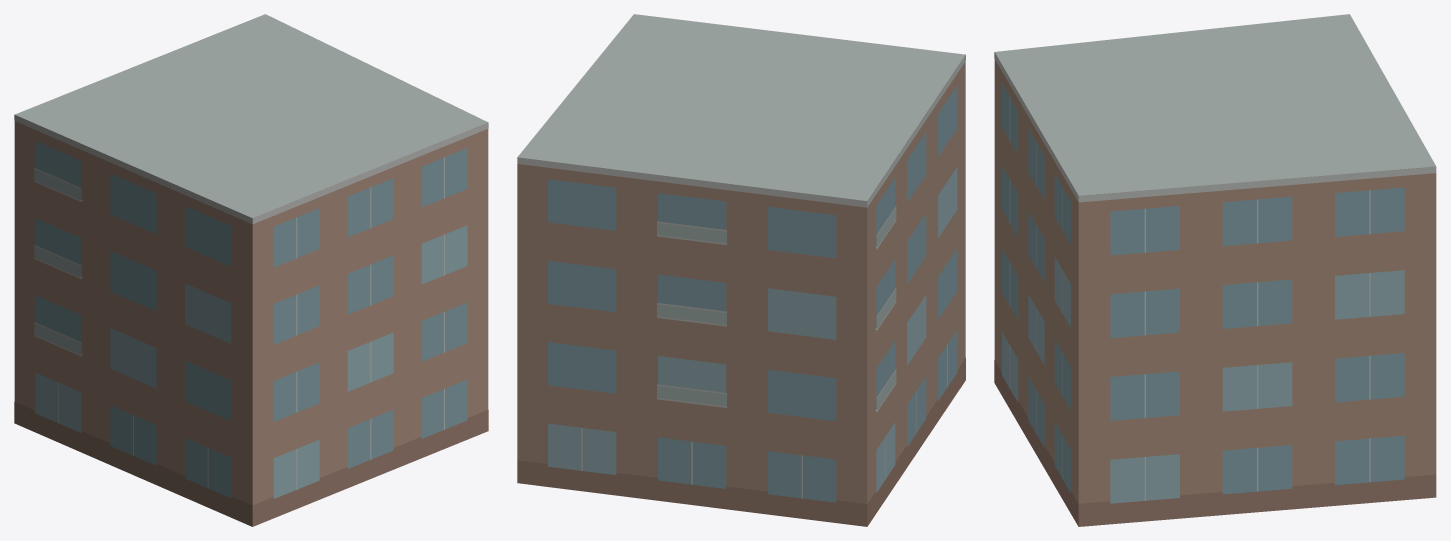
The model's file is survey-upis-32778838.glb.
3 renders of one model, left to right at view 1: azimuth 30°, elevation 25°; view 2: azimuth 150°, elevation 25°; view 3: azimuth 270°, elevation 25°, orthographic. The views are drawn at different scales.
Visible parts, largest first — view 1: survey-upis-32778838.tmp; view 2: survey-upis-32778838.tmp; view 3: survey-upis-32778838.tmp.
Boxes of the visible parts, x1,y1,x2,y2 form: survey-upis-32778838.tmp: [14, 14, 488, 526]; survey-upis-32778838.tmp: [517, 14, 965, 526]; survey-upis-32778838.tmp: [994, 14, 1436, 526].
Bounding box in the file's own units: 14.38 × 12.2 × 14.77.
